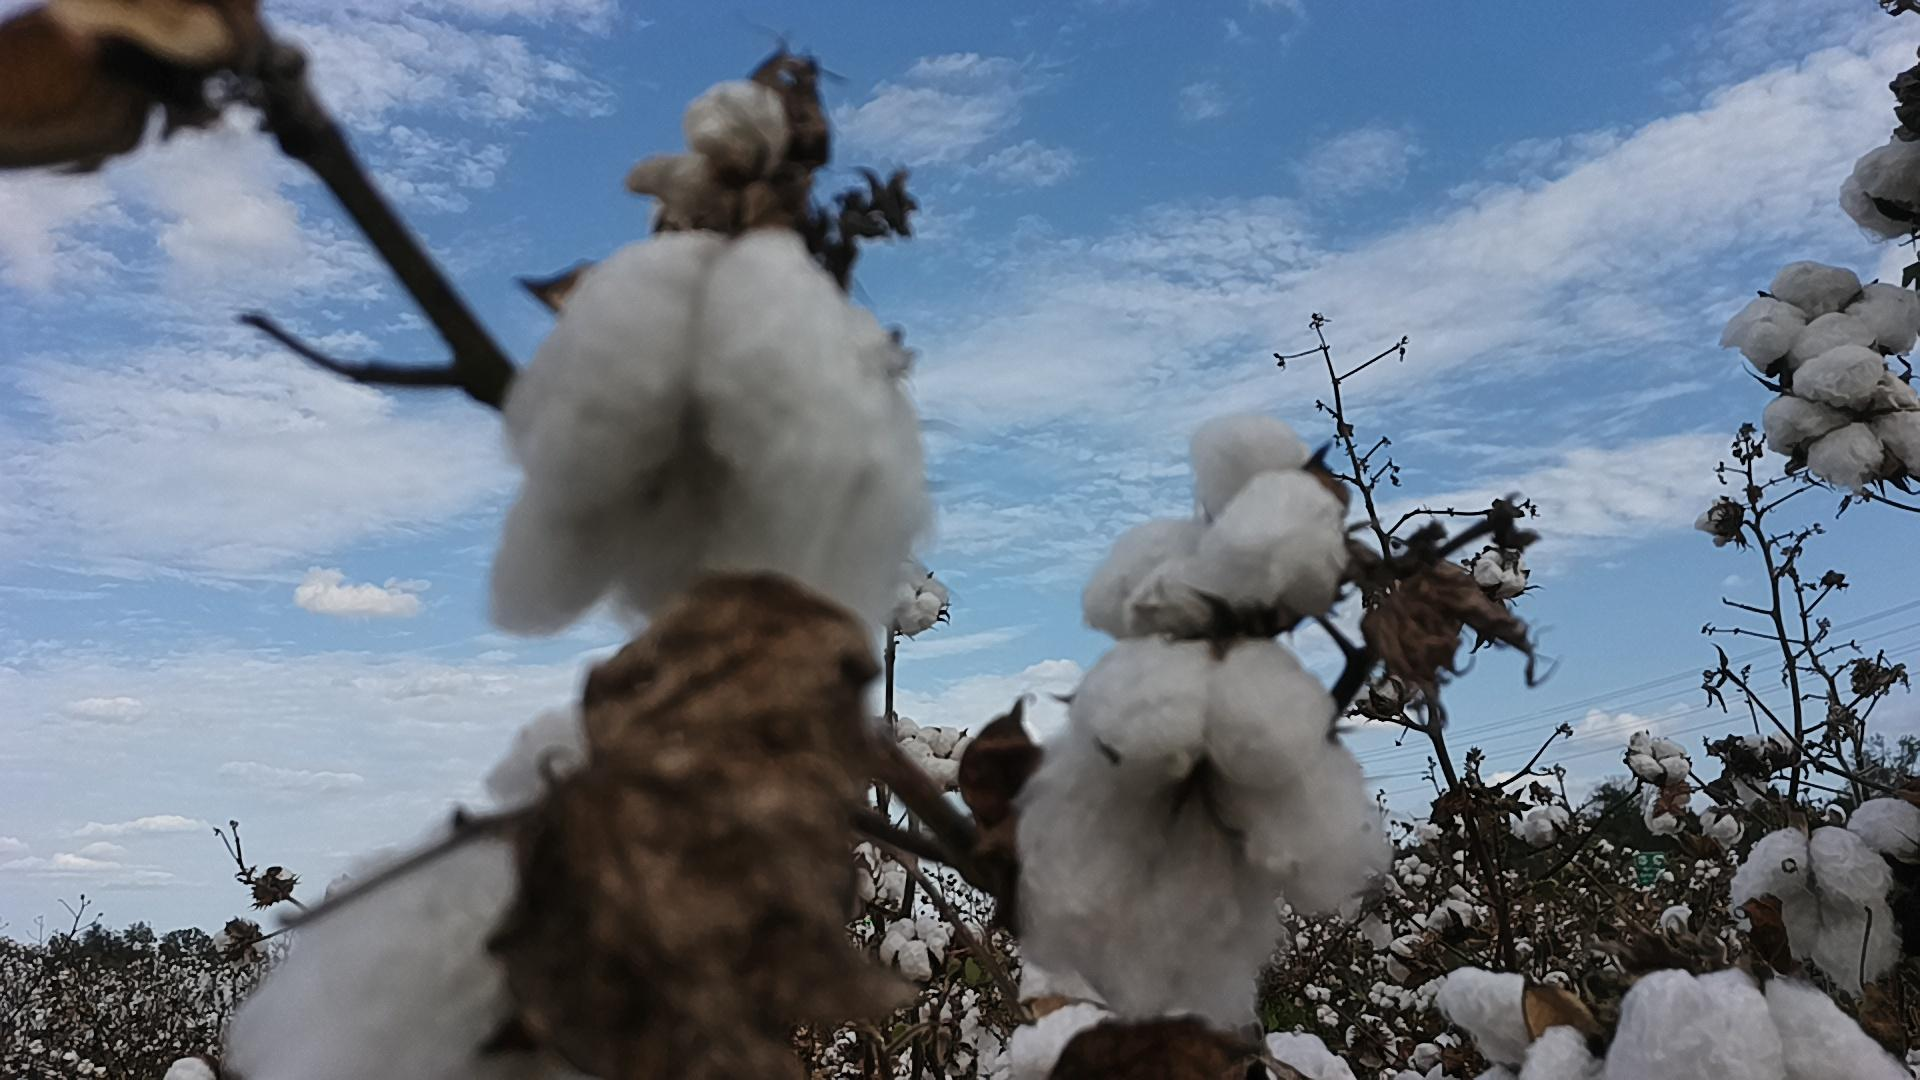cotton_ready: (481, 225, 938, 663), (1010, 636, 1390, 1031), (224, 815, 558, 1080), (1080, 406, 1358, 641), (1518, 971, 1920, 1080), (1721, 803, 1920, 993), (624, 80, 790, 210), (1768, 349, 1920, 491), (1718, 261, 1920, 365), (1432, 971, 1593, 1080), (1010, 1004, 1124, 1080), (1846, 144, 1920, 237), (1263, 1023, 1354, 1080)
